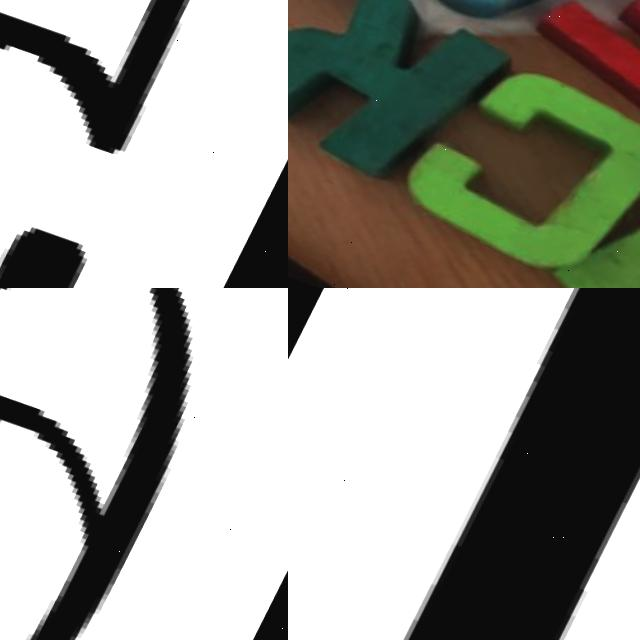5: (0, 0, 288, 288)
6: (0, 288, 288, 640)
C: (411, 47, 640, 288)
E: (505, 0, 640, 170)
I: (408, 288, 640, 640)
K: (288, 0, 528, 213)
